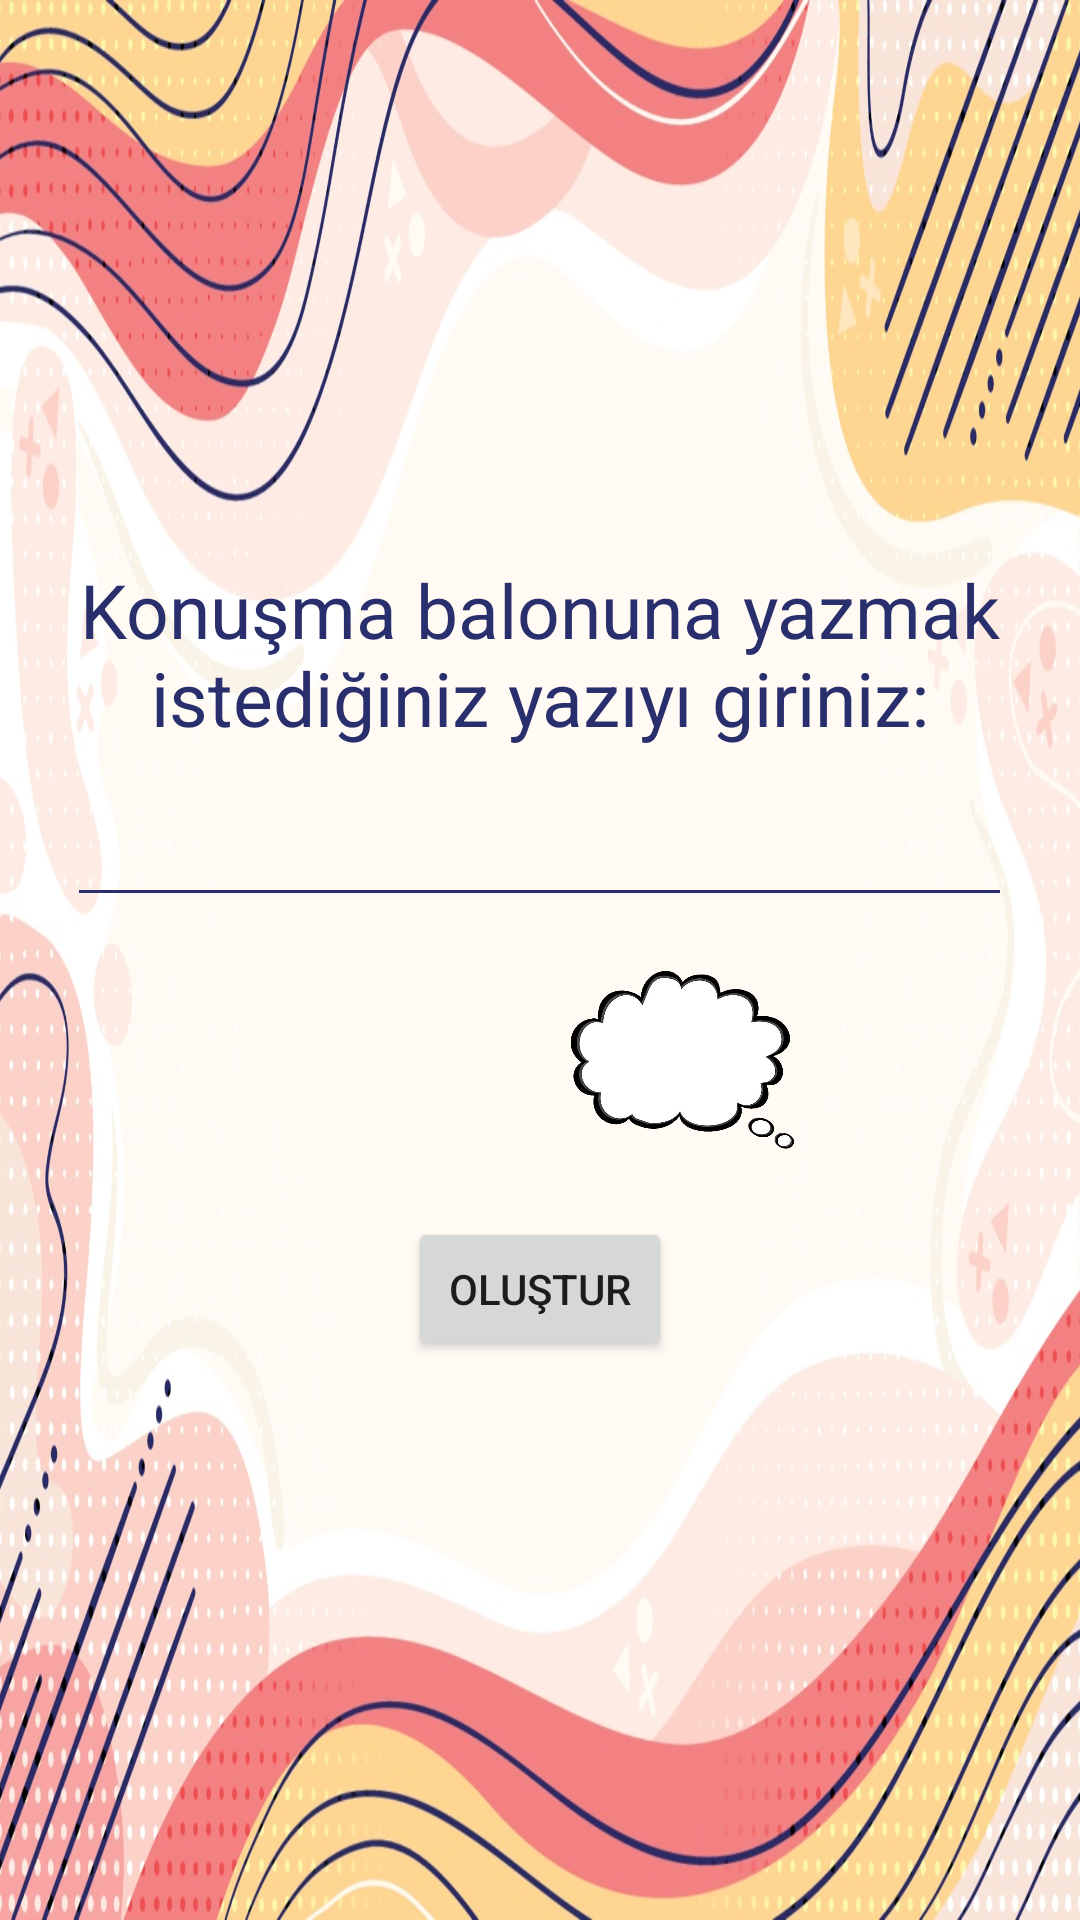

Where icons sit on this 1080px x 1920px app screen, as bbox=[x1, y1, x2, y2]:
thoughtbubble: bbox=[571, 971, 794, 1149]
